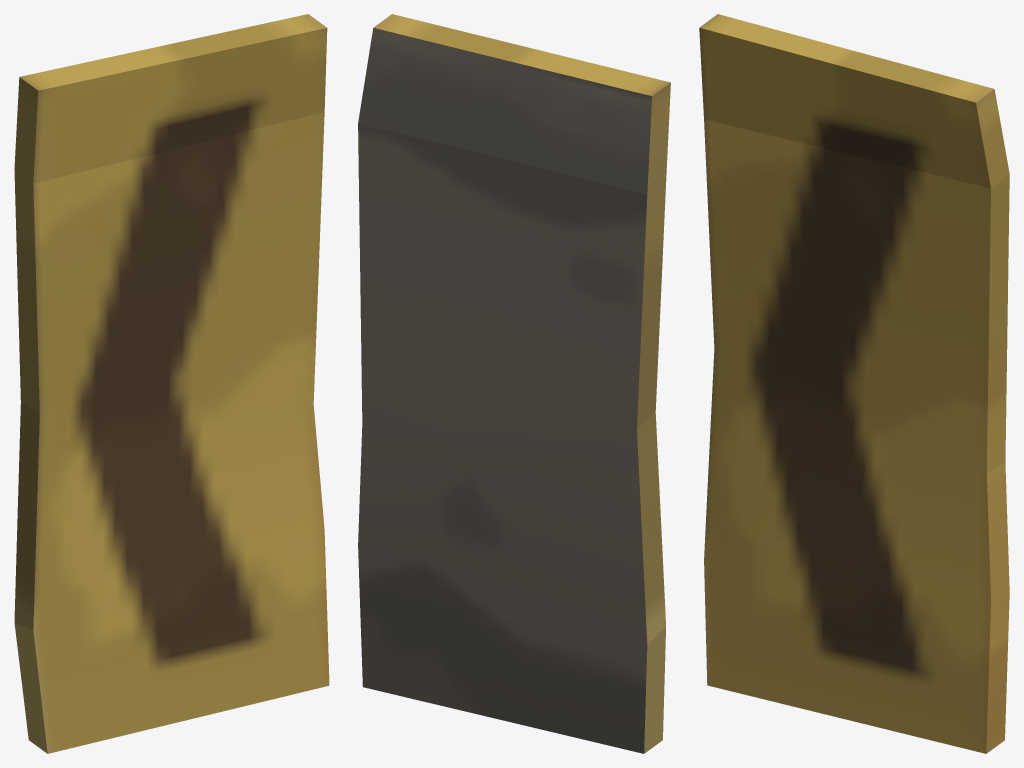
Rendered from SM_Prop_Sign_Road_19.obj.
3 renders of one model, left to right at view 1: azimuth 30°, elevation 25°; view 2: azimuth 150°, elevation 25°; view 3: azimuth 330°, elevation 25°, orthographic.
Parts seen in each view (by area): view 1: SM_Prop_Sign_Road_19_0; view 2: SM_Prop_Sign_Road_19_0; view 3: SM_Prop_Sign_Road_19_0.
Boxes of the visible parts, box(x1,y1,x2,y2) form: SM_Prop_Sign_Road_19_0: box(14, 14, 329, 753); SM_Prop_Sign_Road_19_0: box(358, 14, 670, 753); SM_Prop_Sign_Road_19_0: box(699, 14, 1009, 753).
Size of the model in its own units: 0.5584 by 1.22 by 0.1038.
1 material, 1 textured.
